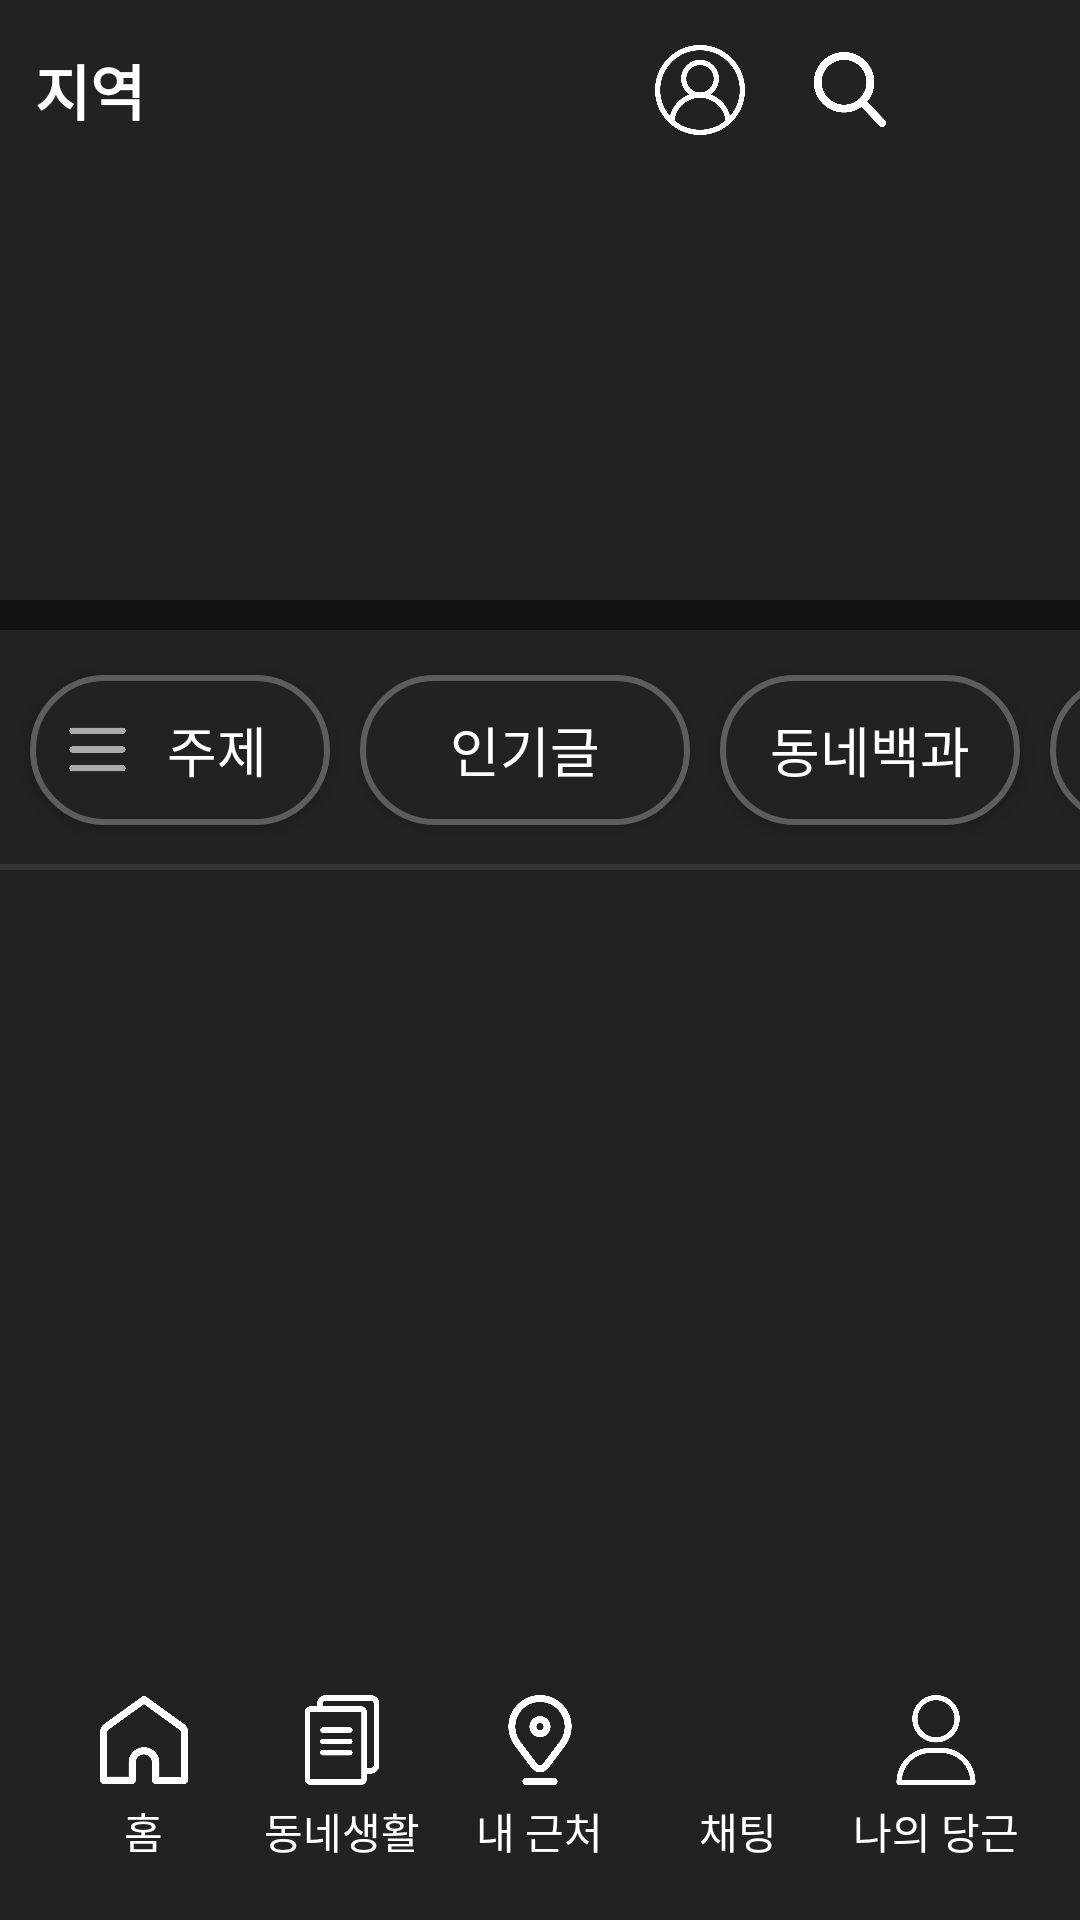

Named icons in this screenshot (1080 x 1920) and their centers, [x,y]:
hut: [144,1740]
location: [540,1740]
search: [850,89]
user: [700,90], [936,1740]
